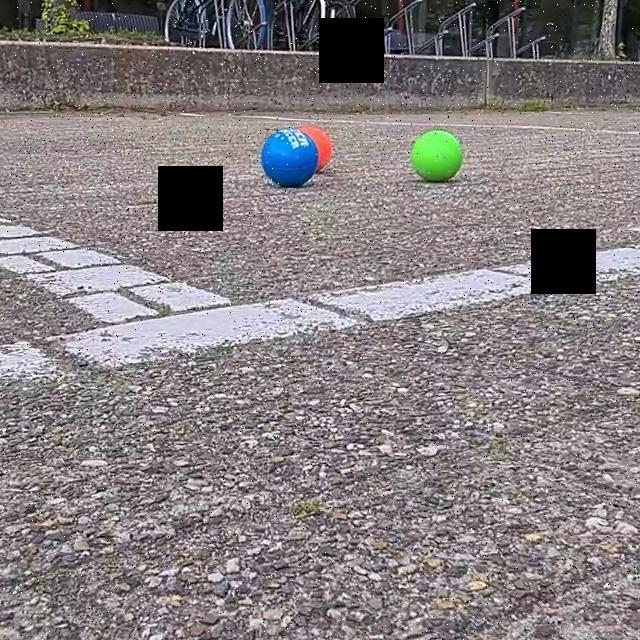ball: (262, 124, 318, 192), (412, 127, 466, 187)
